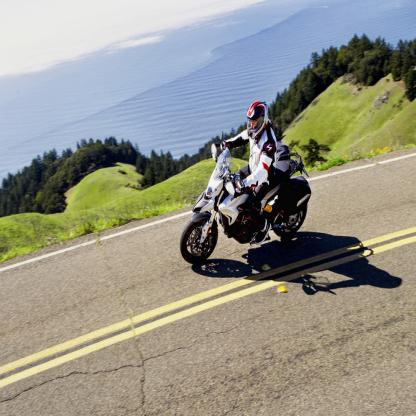Helmet: (246, 101, 271, 144)
